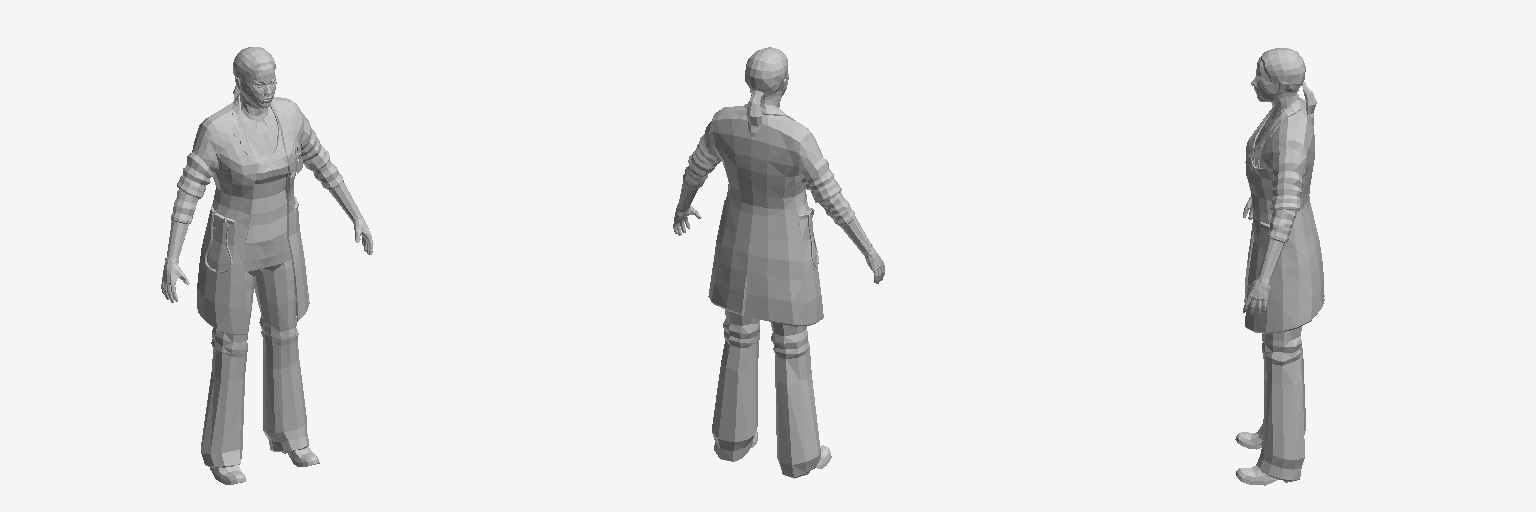
Rendered from PB Sara Tancredi.obj.
The picture shows the model from 3 angles: view 1: azimuth 30°, elevation 25°; view 2: azimuth 150°, elevation 25°; view 3: azimuth 270°, elevation 25°; orthographic projection.
Visible parts, largest first — view 1: Mesh_0049_Tex_0049_0_, Mesh_0050_Tex_0050_0_; view 2: Mesh_0049_Tex_0049_0_, Mesh_0050_Tex_0050_0_; view 3: Mesh_0049_Tex_0049_0_, Mesh_0050_Tex_0050_0_.
Boxes of the visible parts, x1,y1,x2,y2 form: Mesh_0049_Tex_0049_0_: [161, 94, 373, 484]; Mesh_0050_Tex_0050_0_: [233, 47, 277, 156]; Mesh_0049_Tex_0049_0_: [673, 102, 884, 478]; Mesh_0050_Tex_0050_0_: [745, 47, 788, 137]; Mesh_0049_Tex_0049_0_: [1235, 95, 1324, 485]; Mesh_0050_Tex_0050_0_: [1251, 48, 1316, 145].
Bounding box in the file's own units: 0.9132 × 1.75 × 0.3428.